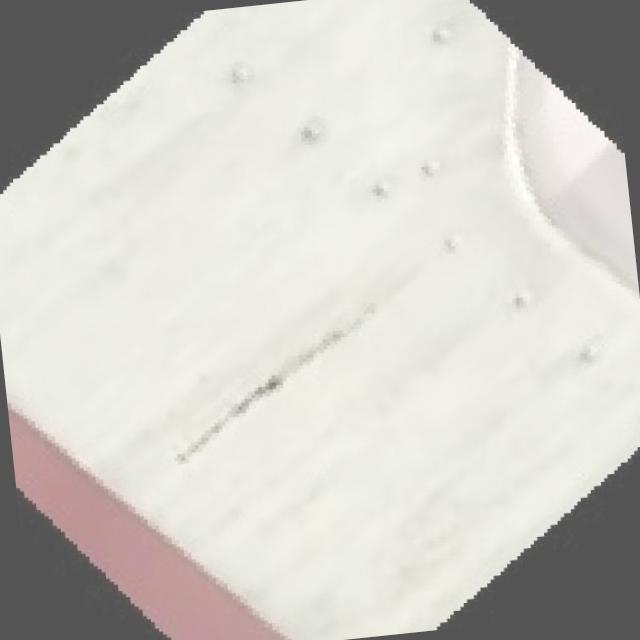crack: (69, 257, 438, 508)
